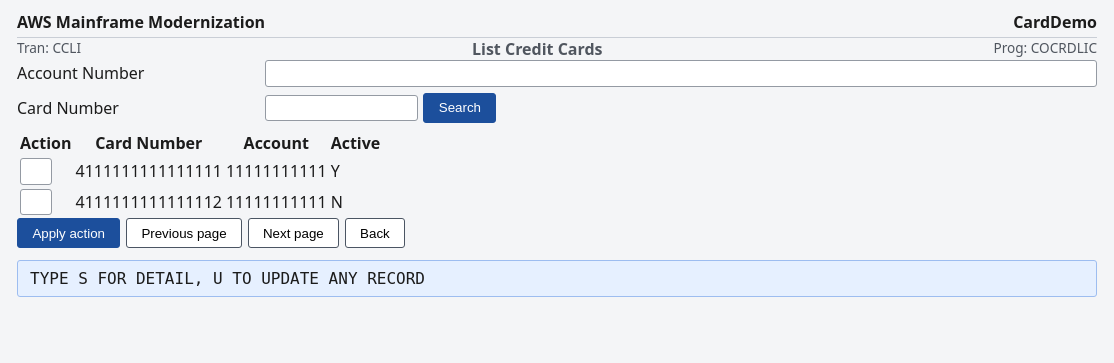
Test: Card list screen › refuses two marked rows
Expected: the text "4111111111111111" is shown, x1=74 y1=157 x2=223 y2=186
Type "S" into the field named "Action for 4111111111111111" at [36, 172], box x1=20 y1=158 x2=52 y2=185
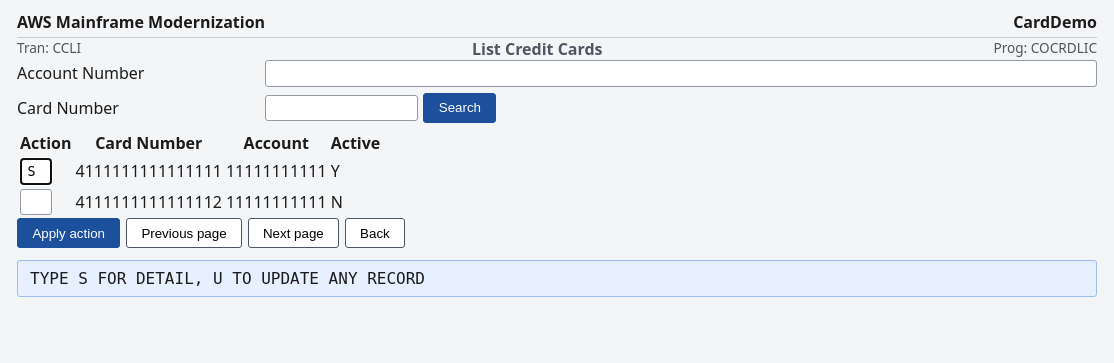
Type "U" into the field named "Action for 4111111111111112" at [36, 202], box x1=20 y1=189 x2=52 y2=215
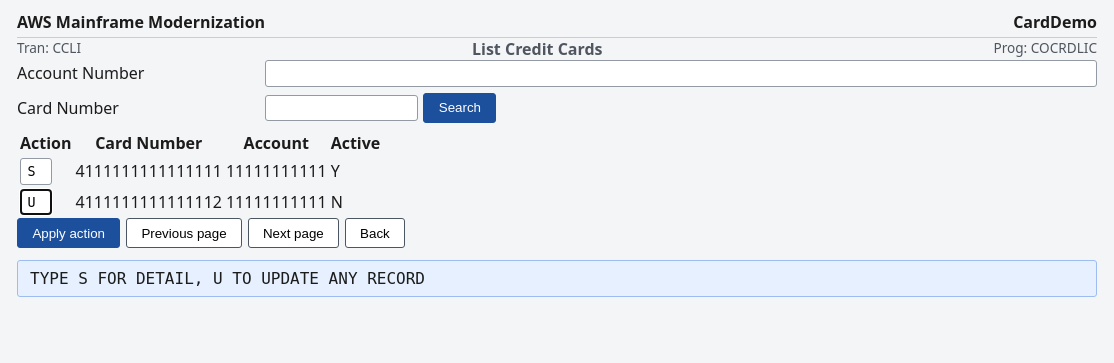
Click the button "Apply action" at [69, 233], box x1=17 y1=218 x2=120 y2=248
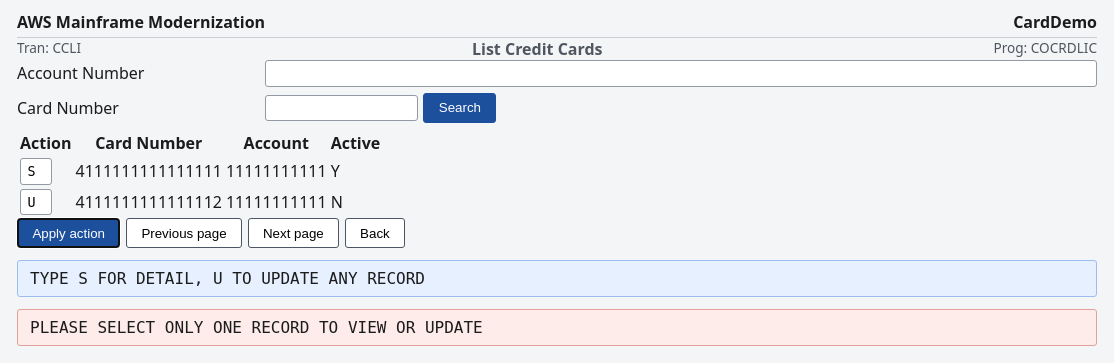
Expected: the message "PLEASE SELECT ONLY ONE RECORD TO VIEW OR UPDATE" is shown, x1=17 y1=309 x2=1097 y2=346
